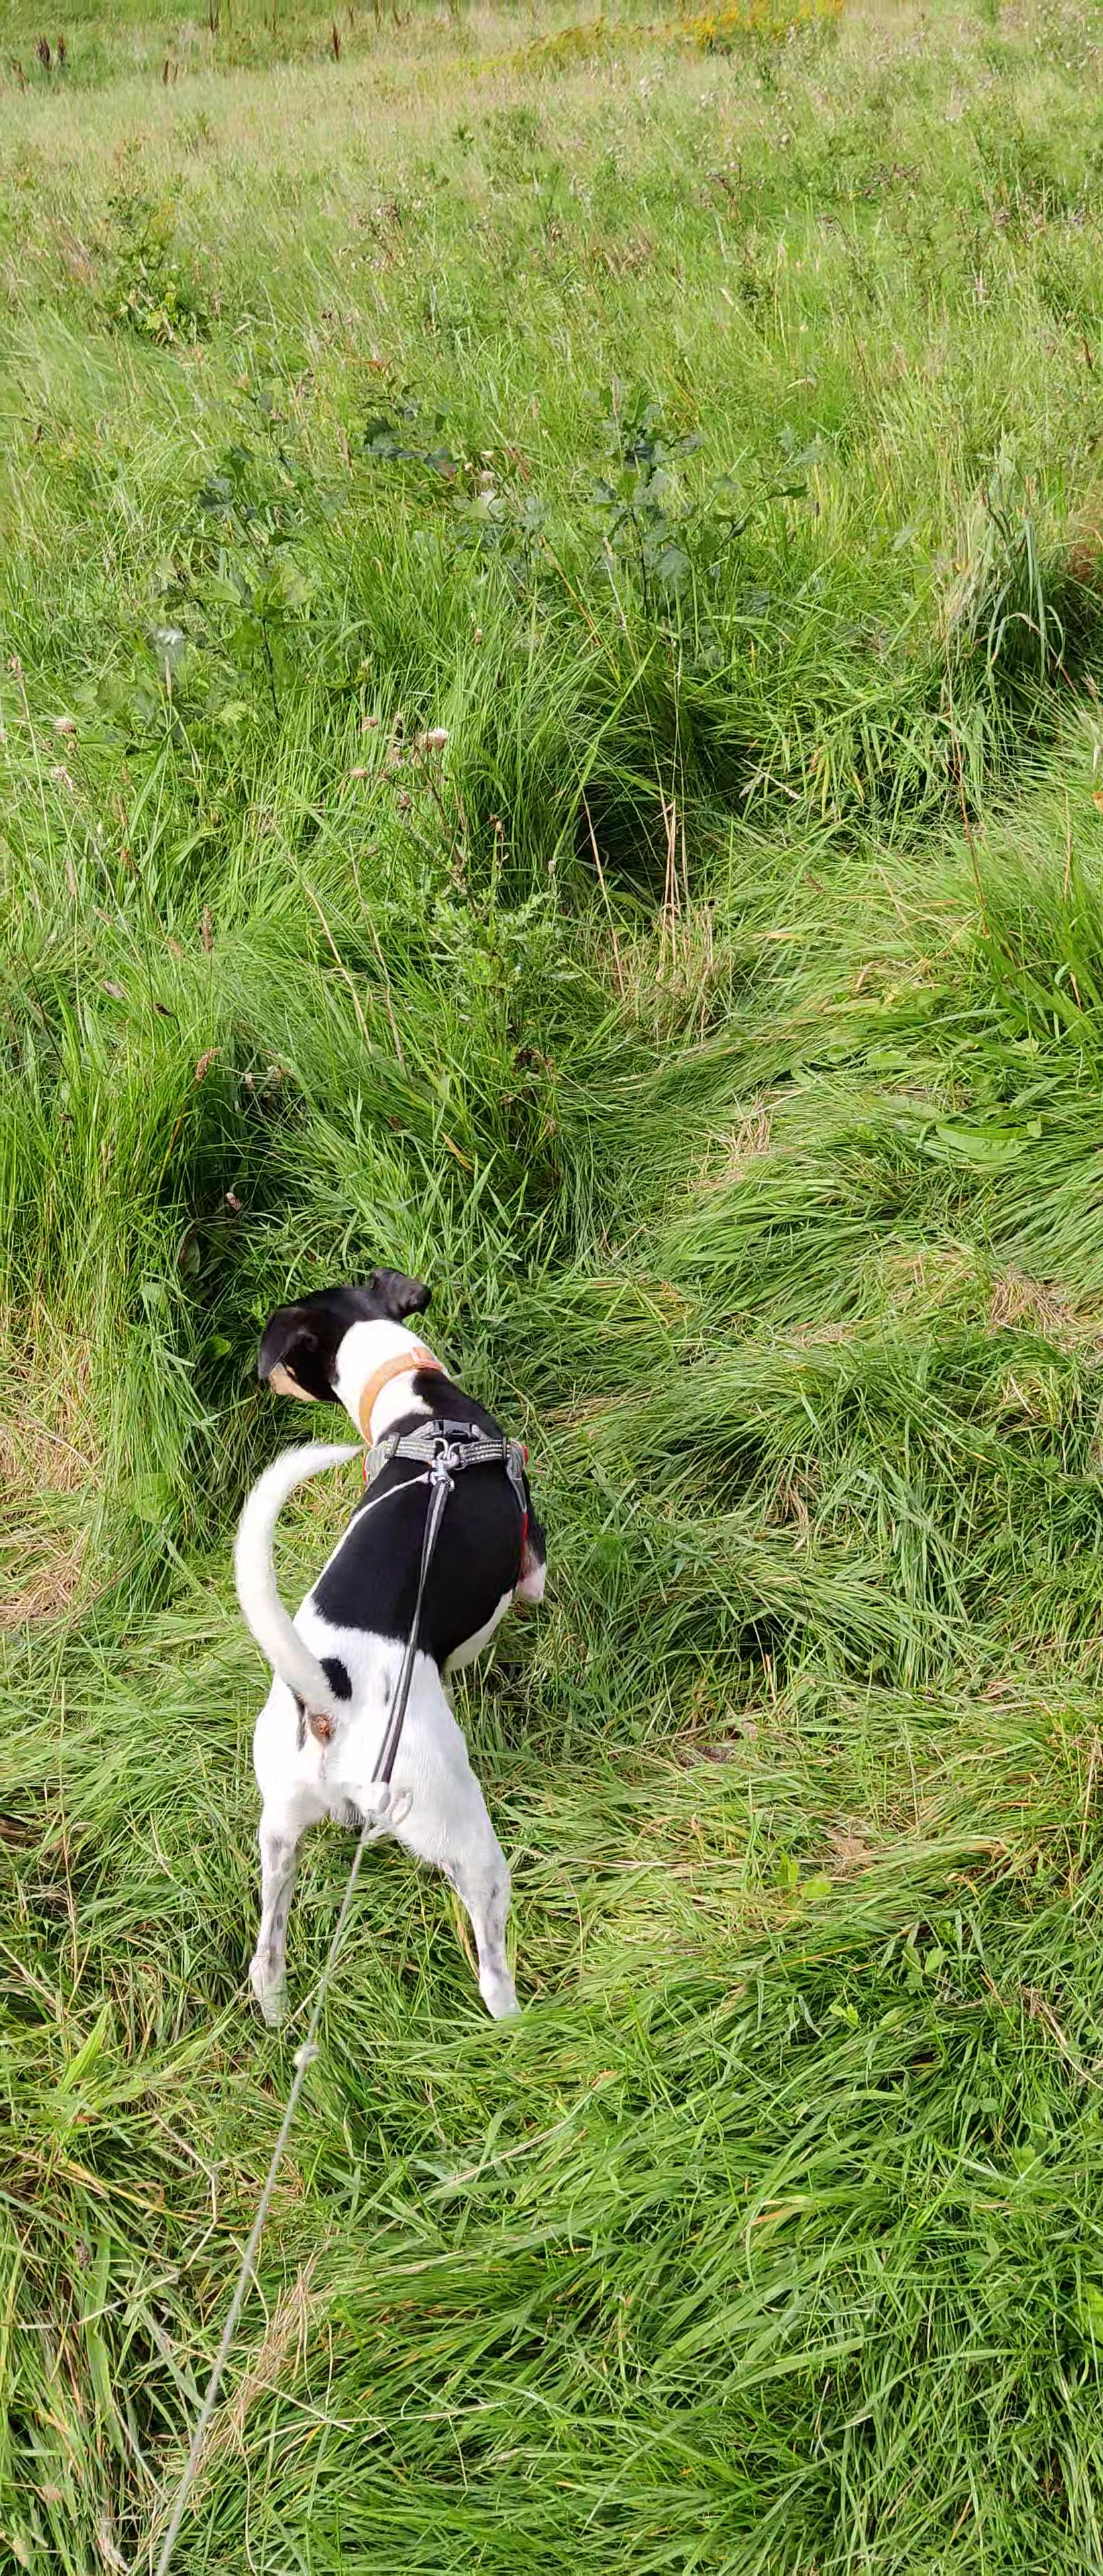Dog: (224, 1255, 551, 2029)
